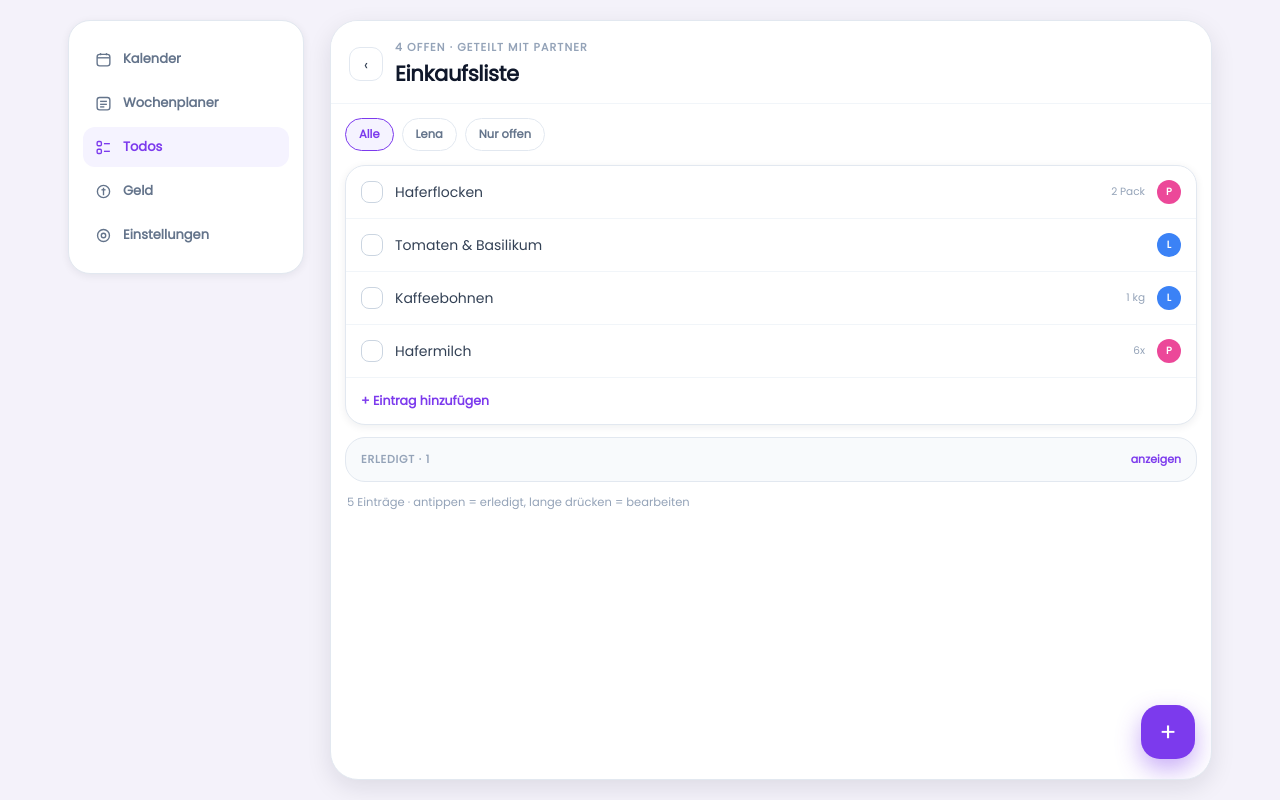
TodoDetail › behaelt ein Abhaken beim Wechsel zurueck zur Uebersicht
Click the checkbox labelled "Haferflocken" at (372, 192), box [361,181,383,203]
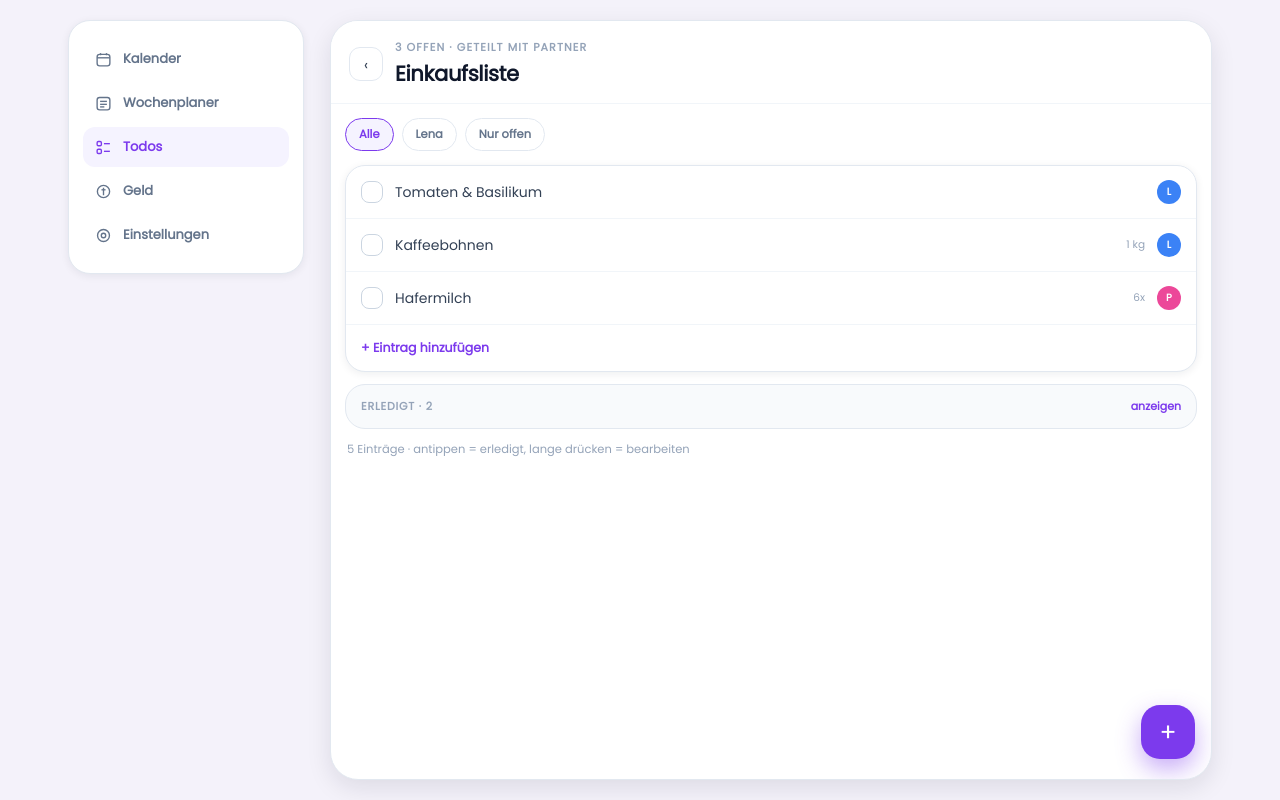
Click the button named "Zurück" at (366, 64), box [349,47,383,81]
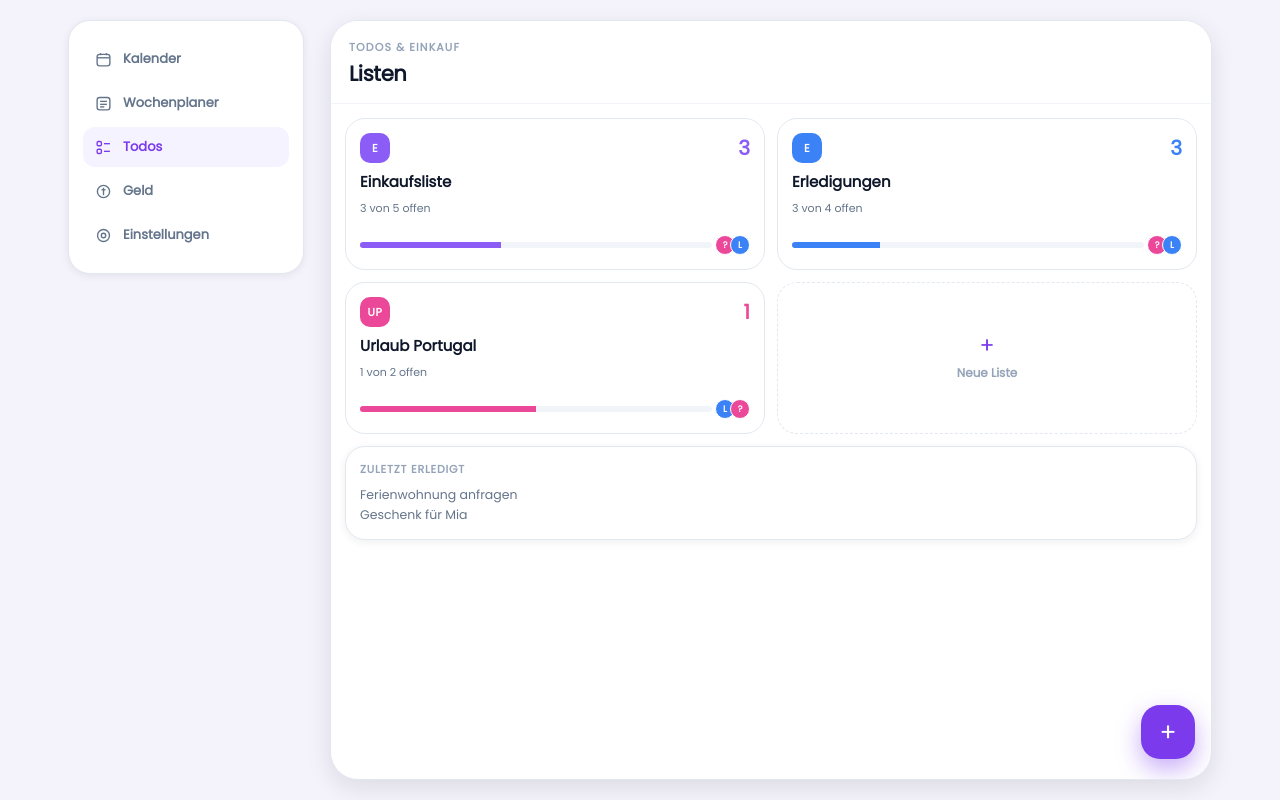
Result: the button "E 3 Einkaufsliste 3 von 5 offen ? L" is shown at [345,118,765,270]
